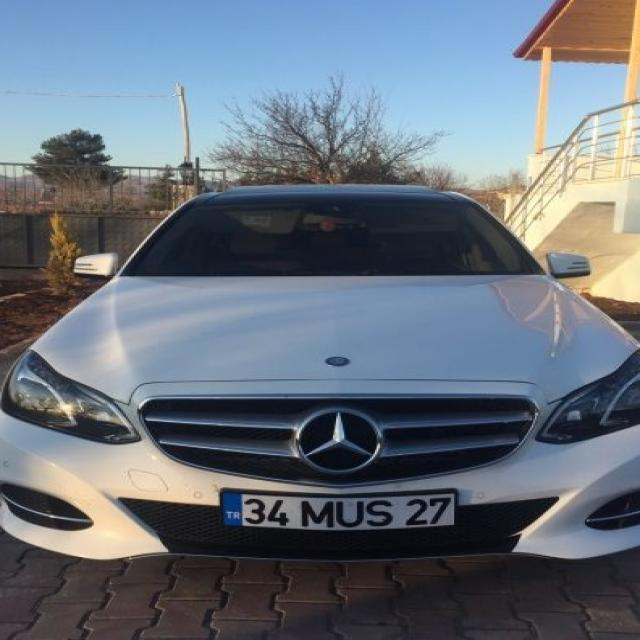license_plate: (220, 492, 457, 530)
